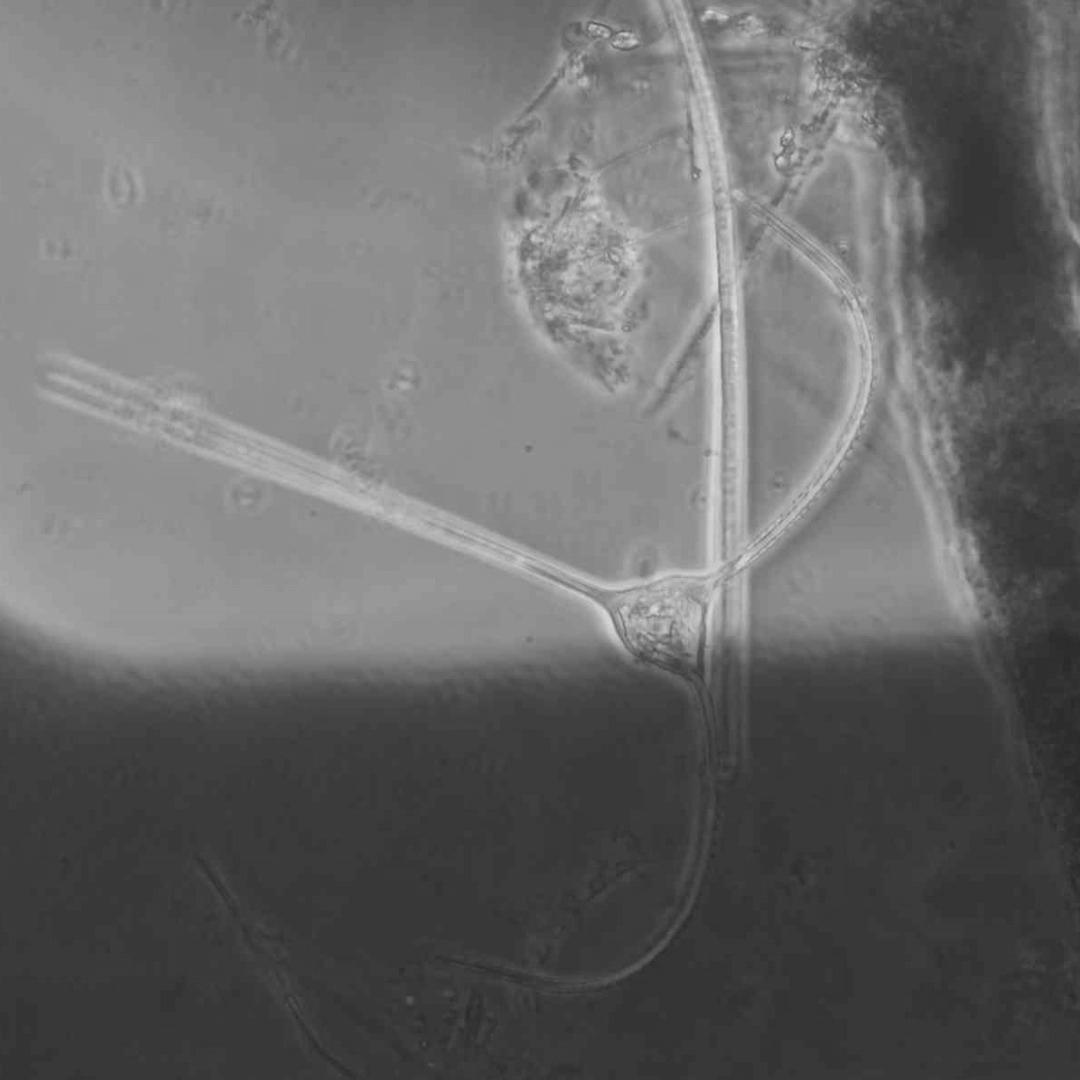ceratium_trichorecos: (40, 189, 876, 995)
